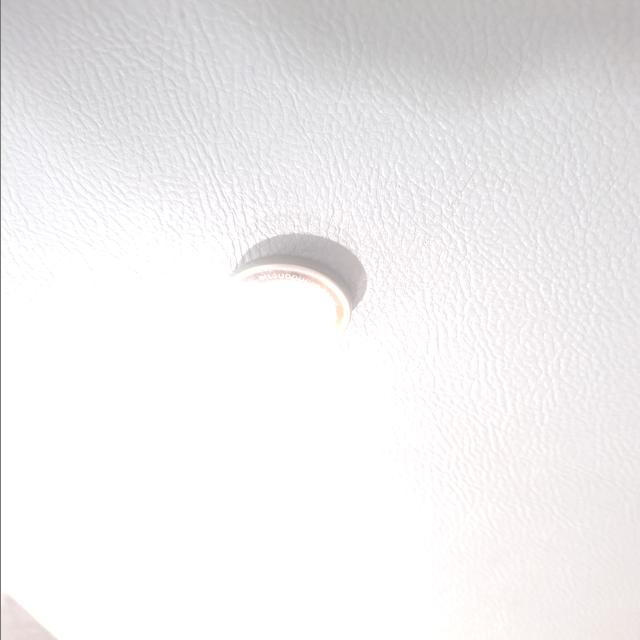COIN: (126, 214, 262, 322)
